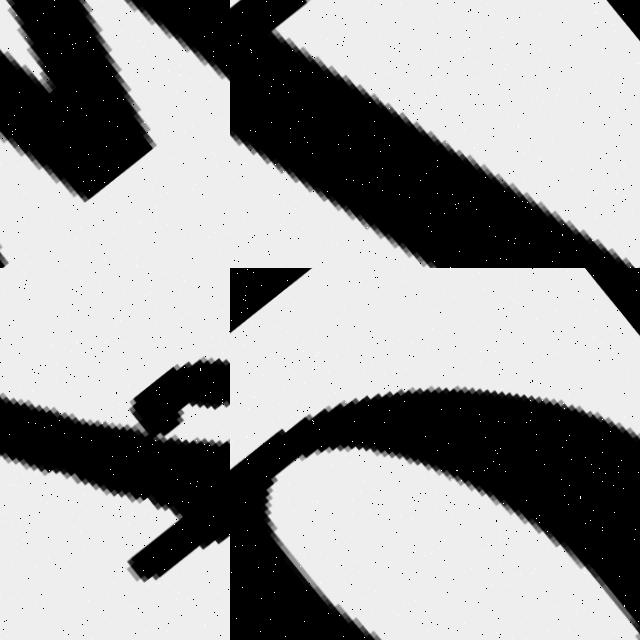L: (230, 0, 640, 268)
O: (230, 383, 640, 640)
P: (0, 268, 230, 640)
W: (0, 0, 230, 268)
